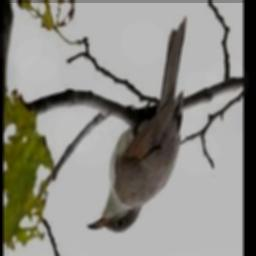Cuckoo: (86, 17, 186, 232)
